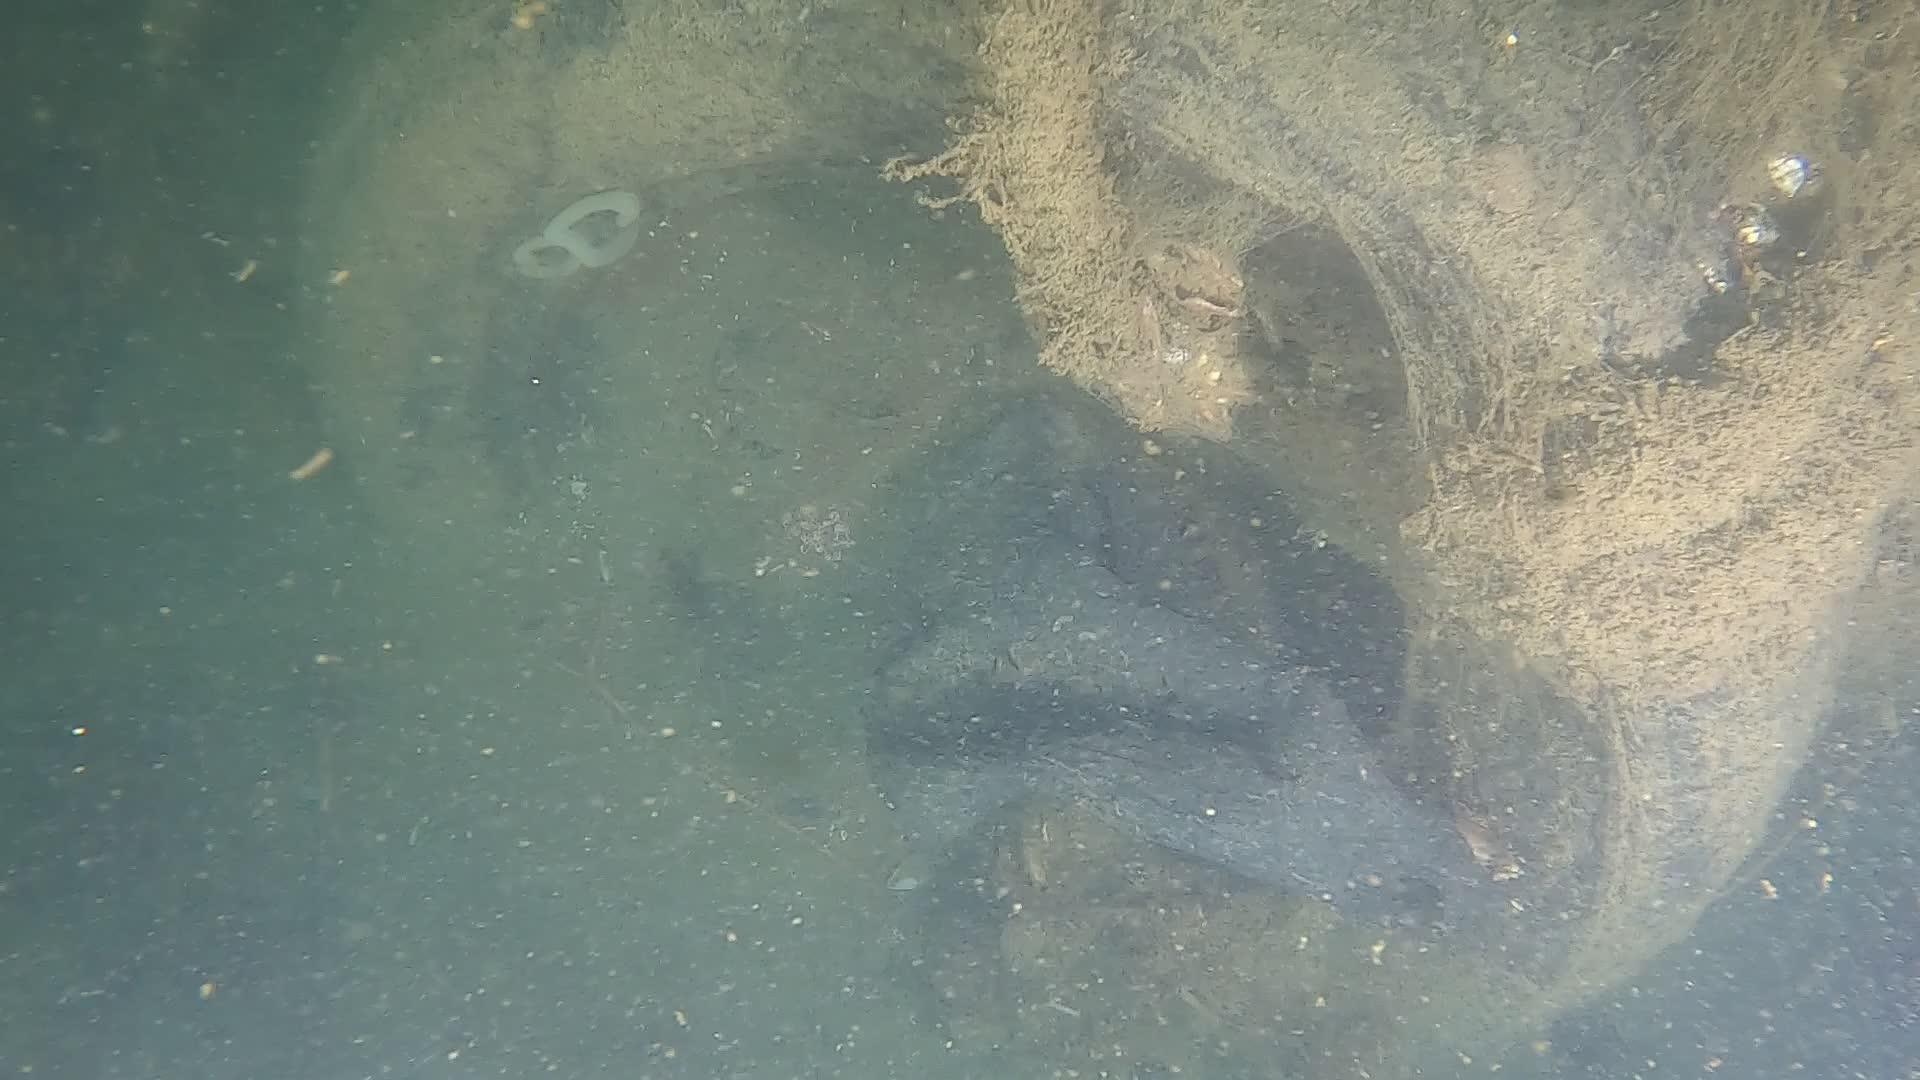tire: (290, 0, 1847, 1080)
